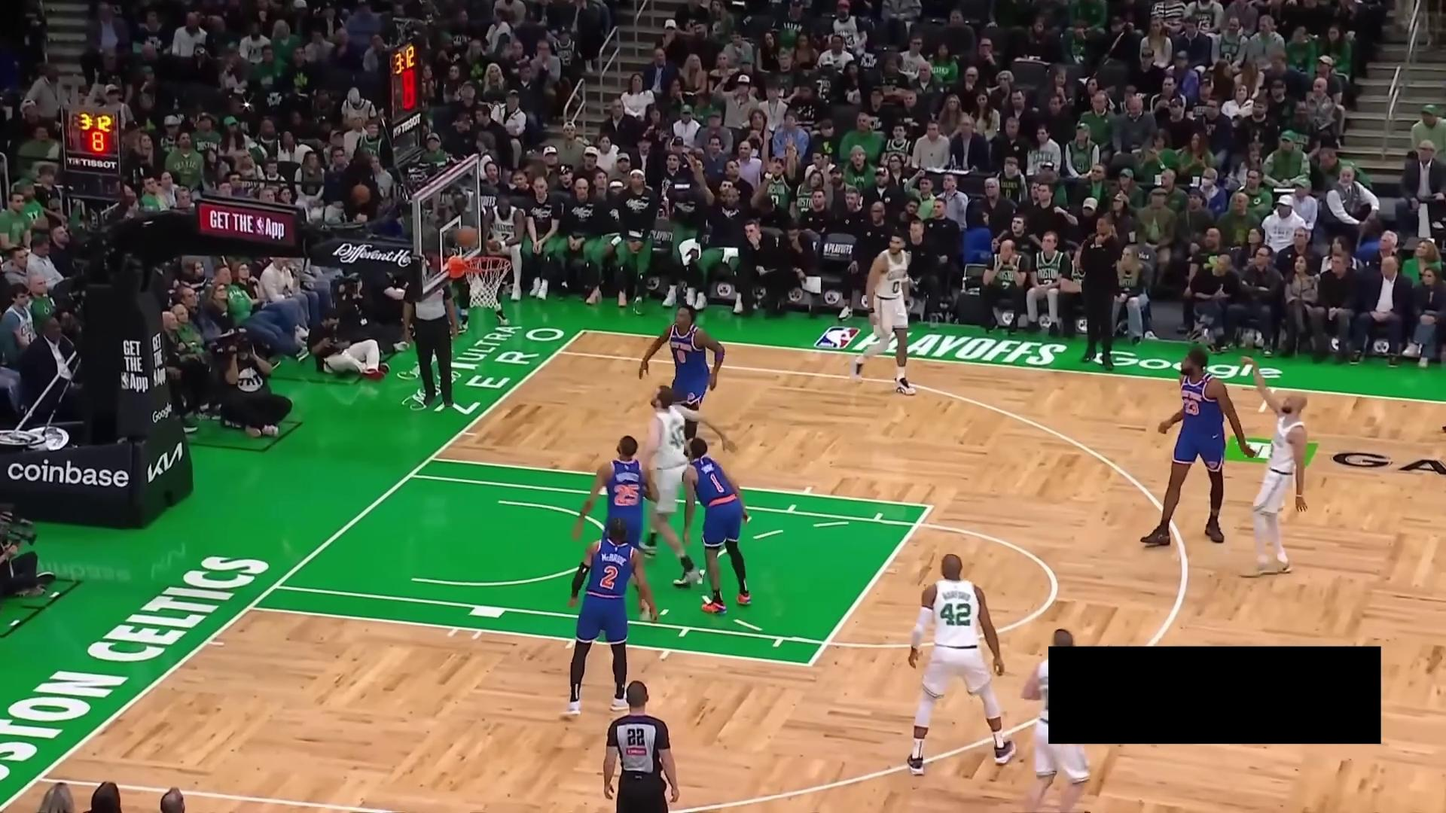ball: (453, 225, 479, 248)
number: (939, 601, 972, 629), (611, 482, 641, 508), (598, 566, 621, 591), (668, 424, 688, 450), (710, 472, 725, 495), (1183, 398, 1201, 416), (676, 348, 687, 364), (892, 279, 901, 294)
player: (897, 550, 1023, 776), (1140, 345, 1255, 549), (554, 517, 658, 720), (1238, 354, 1314, 582), (571, 435, 655, 622), (1017, 626, 1094, 813), (679, 434, 756, 613), (641, 380, 706, 589), (635, 303, 728, 448), (846, 231, 923, 398)
referee: (597, 676, 683, 813), (400, 278, 462, 407)
rim: (461, 255, 514, 273)
